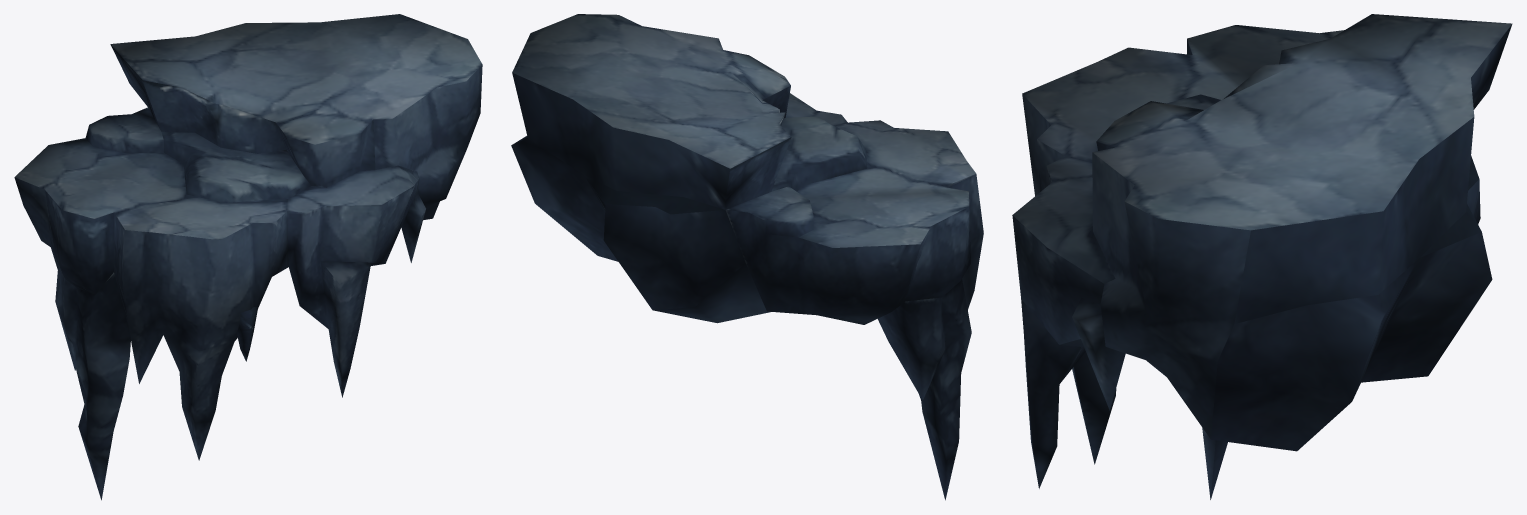
The model's file is Area_01_19.fbx.
3 renders of one model, left to right at view 1: azimuth 30°, elevation 25°; view 2: azimuth 150°, elevation 25°; view 3: azimuth 270°, elevation 25°, orthographic. The views are drawn at different scales.
Parts seen in each view (by area): view 1: Area_01_19; view 2: Area_01_19; view 3: Area_01_19.
Boxes of the visible parts, left/top/right/bottom form: Area_01_19: left=14, top=14, right=482, bottom=500; Area_01_19: left=511, top=14, right=983, bottom=500; Area_01_19: left=1012, top=14, right=1512, bottom=499.
Size of the model in its own units: 2775 by 2318 by 1884.
